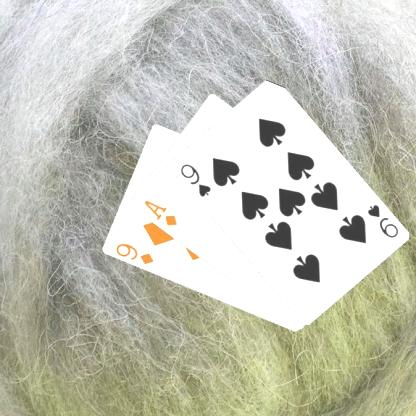9D: (112, 240, 155, 266)
9S: (364, 201, 400, 240), (177, 160, 212, 199)
AD: (141, 197, 178, 228)
